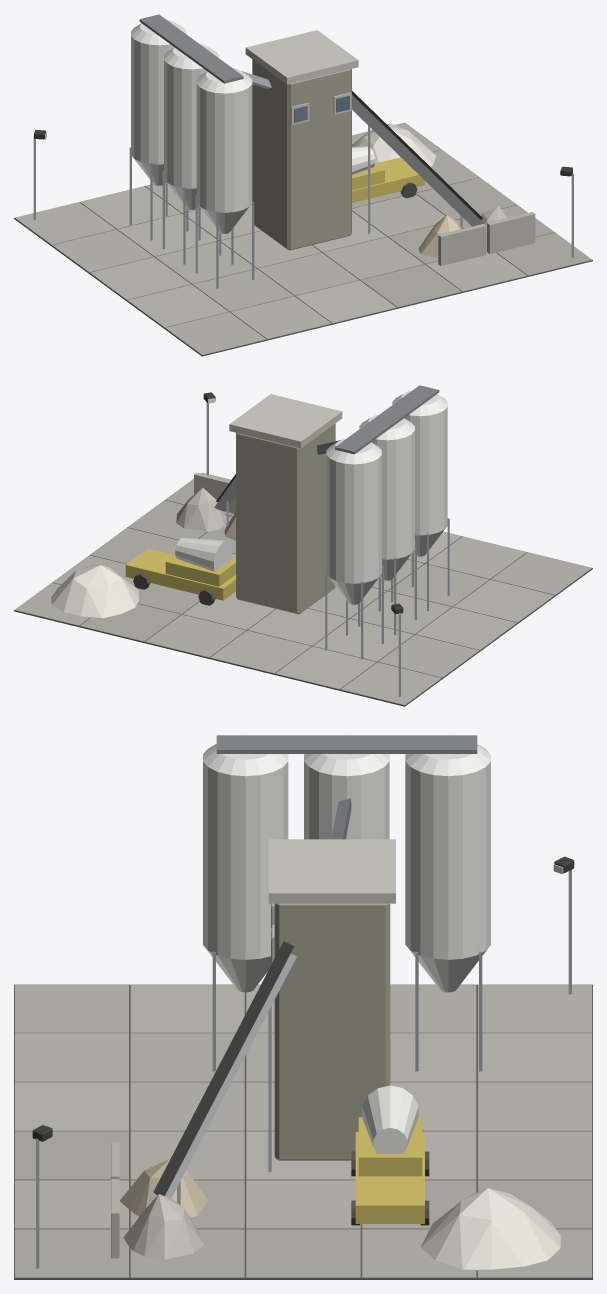
The model's file is b_concrete.glb.
The picture shows the model from 3 angles, top to bottom: view 1: azimuth 30°, elevation 25°; view 2: azimuth 150°, elevation 25°; view 3: azimuth 270°, elevation 25°; orthographic projection. The views are drawn at different scales.
Visible parts, largest first — view 1: hull; view 2: hull; view 3: hull.
Part boxes in pixels (bbox=[...]): hull: bbox=[14, 14, 592, 356]; hull: bbox=[14, 385, 592, 706]; hull: bbox=[14, 735, 592, 1279].
Bounding box in the file's own units: 24 × 12.07 × 20.
